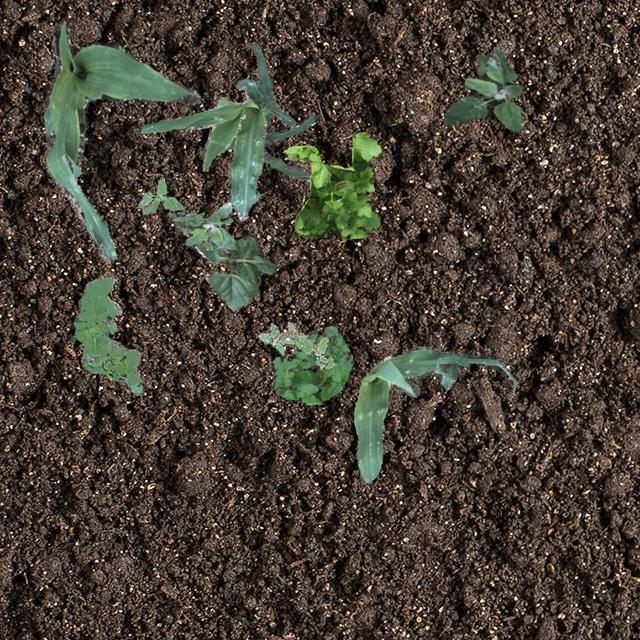crop: (42, 19, 198, 260), (352, 344, 518, 482), (140, 78, 294, 220), (228, 41, 318, 180), (182, 226, 276, 310)
weed: (282, 130, 380, 240), (72, 276, 142, 394), (442, 46, 522, 132), (270, 324, 352, 404), (258, 321, 334, 368), (168, 200, 232, 250), (136, 176, 182, 214)
